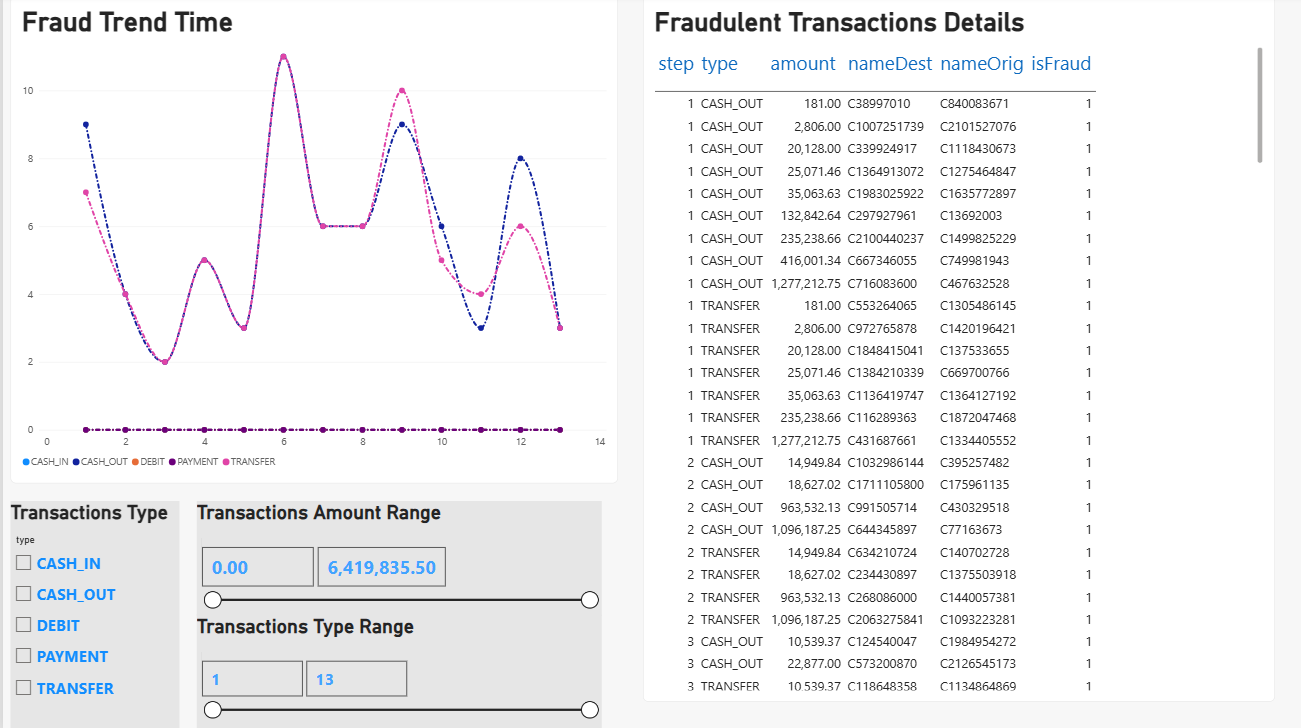

Layout of this report page (visuals, bound fields, positions):
{"tool":"powerbi","page":{"name":"Page 2","canvas":[1920,1080],"ordinal":1},"visuals":[{"type":"lineChart","title":"Fraud Trend Time","fields":{"Category":["cleaned_transactions.step"],"Series":["cleaned_transactions.type"],"Y":["Sum(cleaned_transactions.isFraud)"]},"box":[11,0,894.5,717.8],"z":0},{"type":"slicer","title":"Transactions Type","fields":{"Values":["cleaned_transactions.type"]},"box":[10.3,743.1,249.1,337.6],"z":1},{"type":"tableEx","title":"Fraudulent Transactions Details","fields":{"Values":["cleaned_transactions.step","cleaned_transactions.type","cleaned_transactions.amount","cleaned_transactions.nameDest","cleaned_transactions.nameOrig","cleaned_transactions.isFraud"]},"box":[942.7,0,930.4,1039.5],"z":2},{"type":"slicer","title":"Transactions Amount Range ","fields":{"Values":["cleaned_transactions.amount"]},"box":[286.1,743.1,594.9,168.8],"z":3},{"type":"slicer","title":"Transactions Type Range","fields":{"Values":["cleaned_transactions.step"]},"box":[286.1,911.8,594.9,168.8],"z":4}]}

Visuals, with their boxes in screenshot pixels (x1, y1, x2, y2), scaled from the page's 1920x1080 canvas onto the 1301x728 screenshot:
"Fraud Trend Time" lineChart: [x1=7, y1=0, x2=614, y2=484]
"Transactions Type" slicer: [x1=7, y1=501, x2=176, y2=727]
"Fraudulent Transactions Details" tableEx: [x1=639, y1=0, x2=1269, y2=701]
"Transactions Amount Range " slicer: [x1=194, y1=501, x2=597, y2=615]
"Transactions Type Range" slicer: [x1=194, y1=615, x2=597, y2=727]
